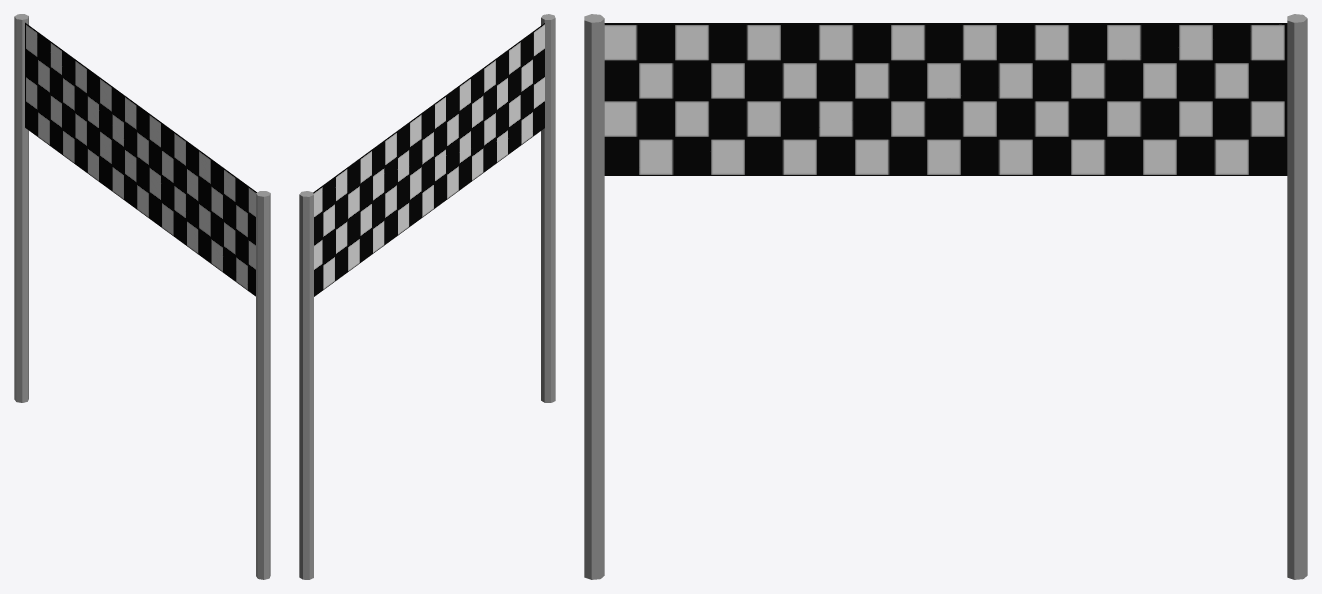
The model's file is FlagEnd Start.fbx.
3 renders of one model, left to right at view 1: azimuth 30°, elevation 25°; view 2: azimuth 150°, elevation 25°; view 3: azimuth 270°, elevation 25°, orthographic. The views are drawn at different scales.
Visible parts, largest first — view 1: Cylinder; view 2: Cylinder; view 3: Cylinder.
Part boxes in pixels (bbox=[...]): Cylinder: bbox=[14, 14, 270, 579]; Cylinder: bbox=[299, 14, 555, 579]; Cylinder: bbox=[584, 14, 1307, 579].
Bounding box in the file's own units: 23.83 × 698 × 822.
2 materials, 1 textured.
